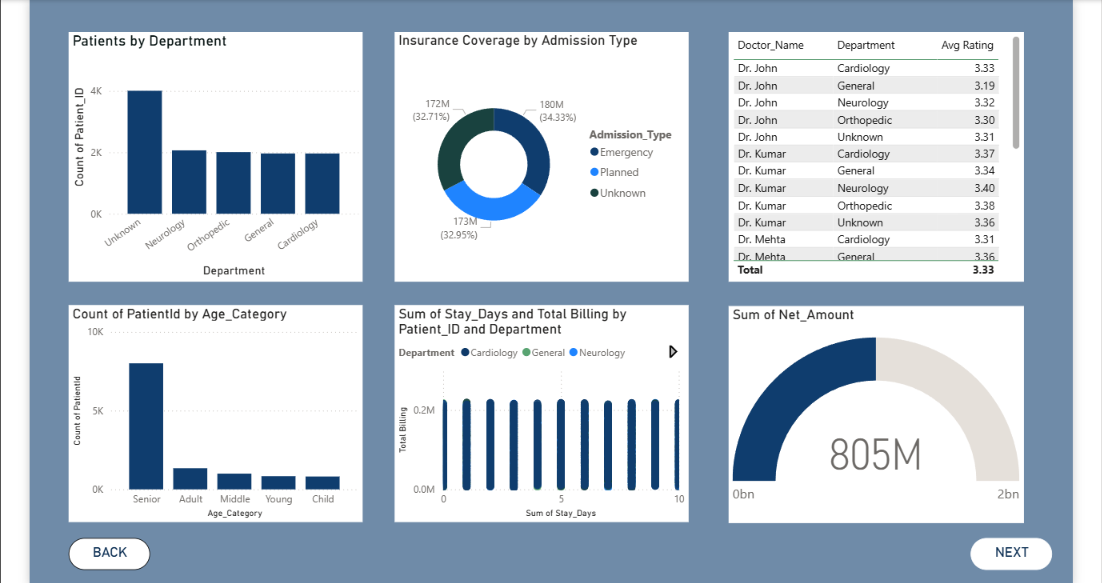

The page's visual inventory and layout, read from the dashboard file:
{"tool":"powerbi","page":{"name":"Report2","canvas":[1280,720],"ordinal":1},"visuals":[{"type":"clusteredColumnChart","title":"Patients by Department","fields":{"Category":["Cleaned_Data.Department"],"Y":["CountNonNull(Cleaned_Data.Patient_ID)"]},"box":[48,39.8,360.9,306],"z":0},{"type":"donutChart","title":"Insurance Coverage by Admission Type","fields":{"Category":["Cleaned_Data.Admission_Type"],"Y":["Sum(Cleaned_Data.Insurance_Cover)"]},"box":[447.3,39.8,360.9,306],"z":1000},{"type":"columnChart","fields":{"Category":["Patient_info.Age_Category"],"Y":["CountNonNull(Patient_info.PatientId)"]},"box":[48,374.6,360.9,266.2],"z":2000},{"type":"scatterChart","fields":{"X":["Sum(Cleaned_Data.Stay_Days)"],"Y":["Cleaned_Data.Total Billing"],"Series":["Cleaned_Data.Department"],"Category":["Cleaned_Data.Patient_ID"]},"box":[447.3,374.6,360.9,266.2],"z":3000},{"type":"tableEx","fields":{"Values":["Cleaned_Data.Doctor_Name","Cleaned_Data.Department","Cleaned_Data.Avg Rating"]},"box":[857.6,39.8,362.3,306],"z":4000},{"type":"gauge","fields":{"Y":["Sum(Cleaned_Data.Net_Amount)"]},"box":[858,375,362,266],"z":5000},{"type":"actionButton","title":"NEXT","box":[1154.9,660.6,100,39.4],"z":6000},{"type":"actionButton","title":"BACK","box":[47.9,660.6,100,39.4],"z":7000}]}

Visuals, with their boxes on the page's 1280x720 design canvas (x1, y1, x2, y2). These are canvas units, not pixel positions in the 1102x583 screenshot, which may show the page scaled, cropped or inside an application window:
"Patients by Department" clusteredColumnChart: [48,40,409,346]
"Insurance Coverage by Admission Type" donutChart: [447,40,808,346]
columnChart - Patient_info.Age_Category x CountNonNull(Patient_info.PatientId): [48,375,409,641]
scatterChart - Sum(Cleaned_Data.Stay_Days) x Cleaned_Data.Total Billing: [447,375,808,641]
tableEx - Cleaned_Data.Doctor_Name x Cleaned_Data.Department: [858,40,1220,346]
gauge - Sum(Cleaned_Data.Net_Amount): [858,375,1220,641]
"NEXT" actionButton: [1155,661,1255,700]
"BACK" actionButton: [48,661,148,700]
